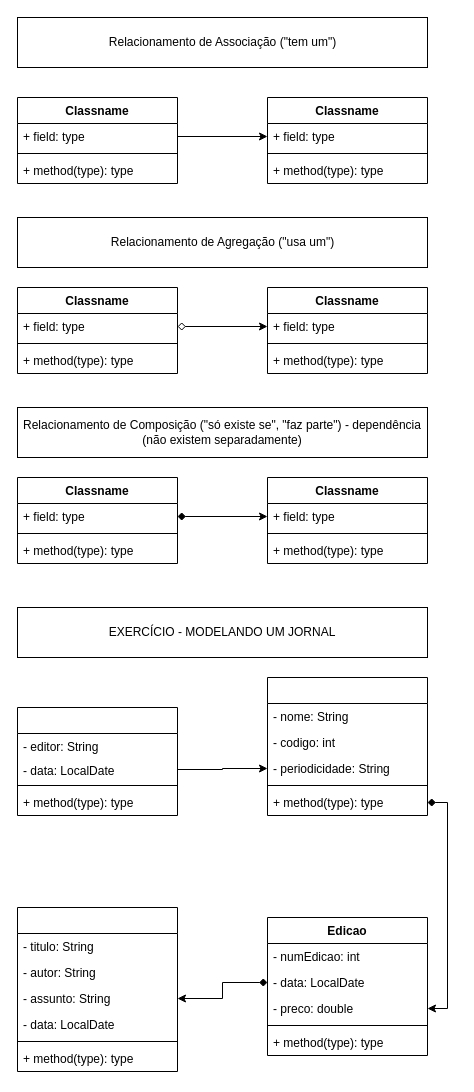
This 474x1092 diagram has some shape labels left out. Here are the shapes that lost their labels. From the top down, the box of each, then its label:
(16, 706, 178, 816): Jornal
(266, 676, 428, 816): Revista
(16, 906, 178, 1072): Artigo
